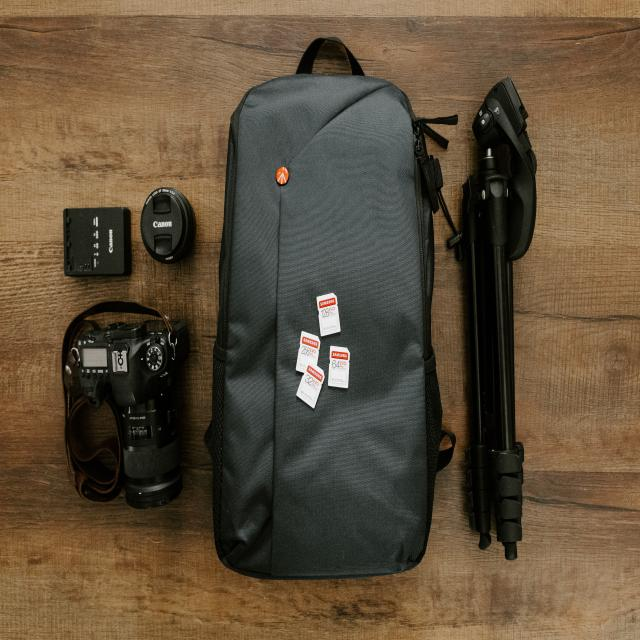backpack: (203, 34, 444, 573)
